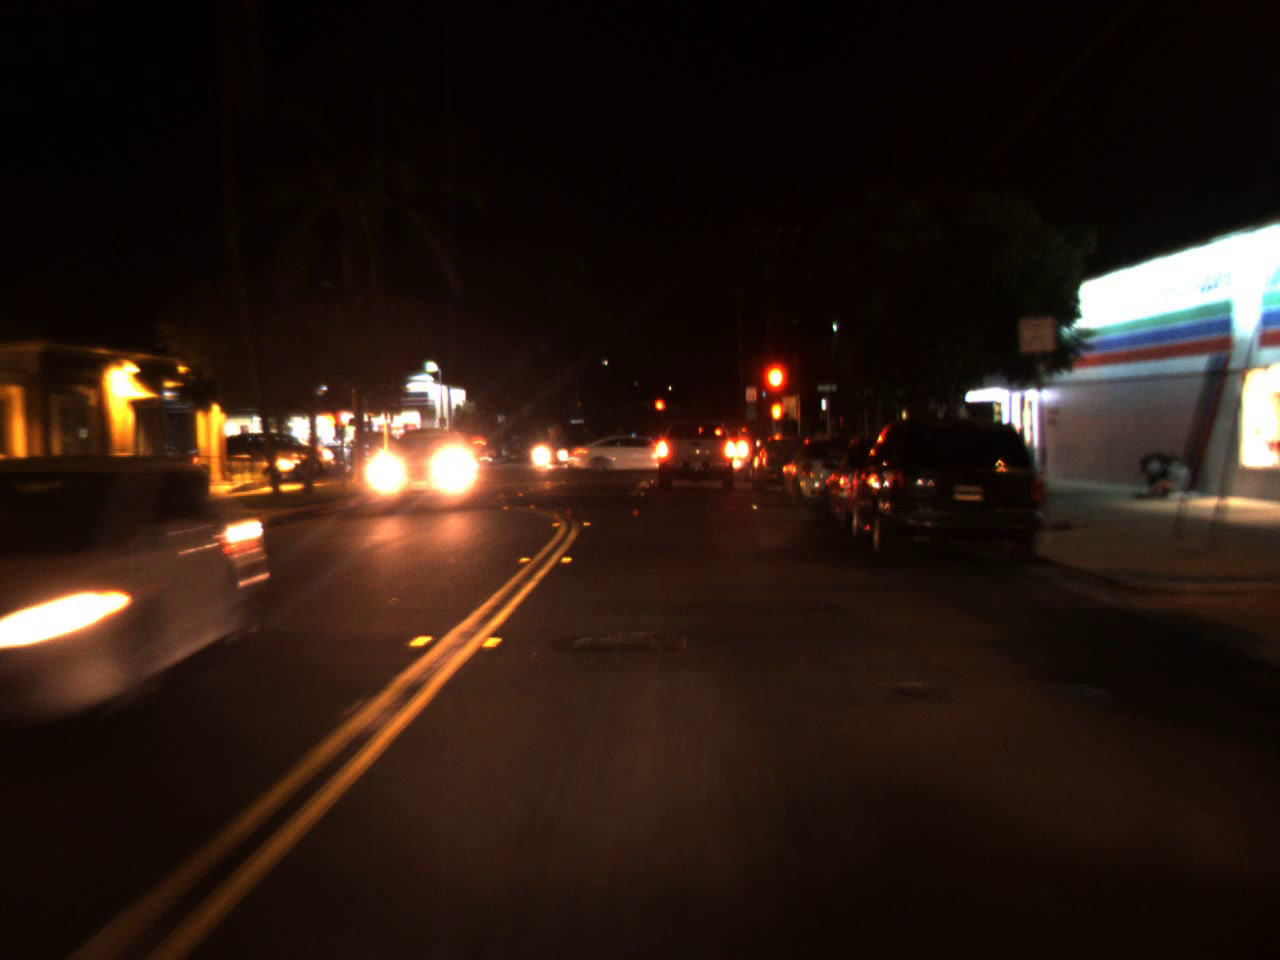stop: (758, 357, 792, 432), (654, 400, 663, 416)
